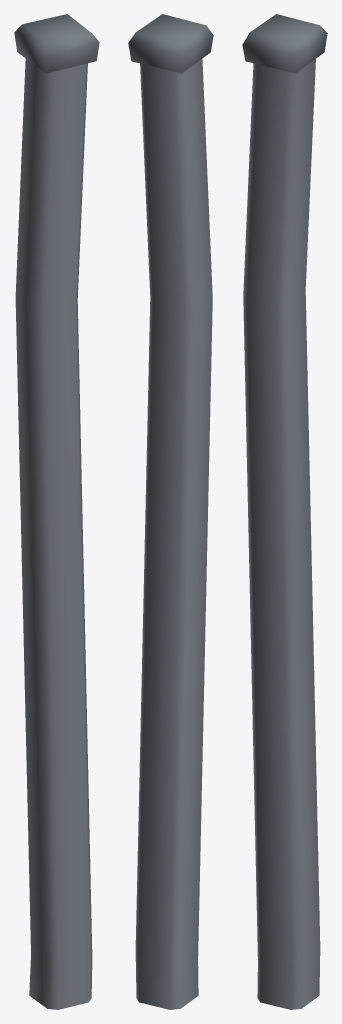
The model's file is FencePost.fbx.
The picture shows the model from 3 angles, left to right: view 1: azimuth 30°, elevation 25°; view 2: azimuth 150°, elevation 25°; view 3: azimuth 330°, elevation 25°; orthographic projection.
Visible parts, largest first — view 1: FencePost; view 2: FencePost; view 3: FencePost.
Boxes of the visible parts, left/top/right/bottom form: FencePost: left=14, top=14, right=99, bottom=1009; FencePost: left=128, top=14, right=213, bottom=1009; FencePost: left=242, top=14, right=327, bottom=1009.
Bounding box in the file's own units: 18.89 × 292 × 17.11.
